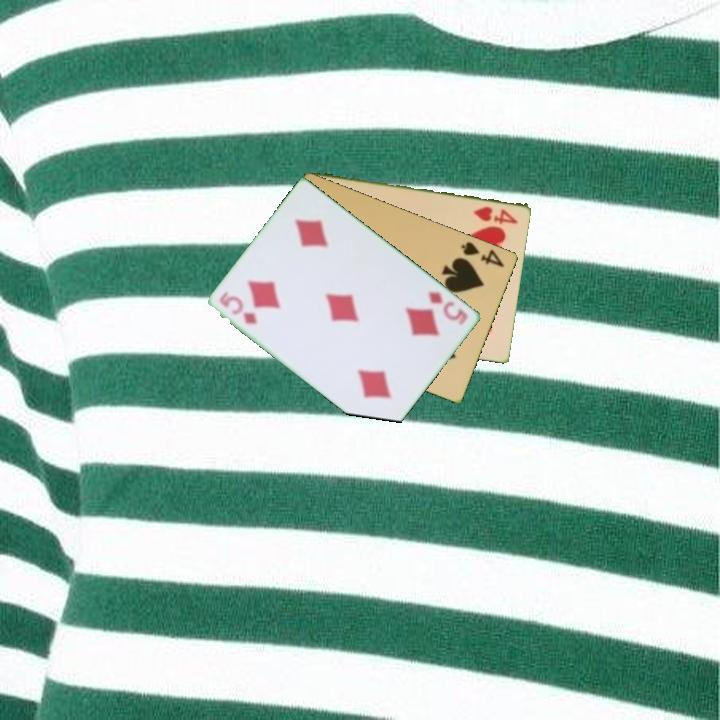4h: (470, 203, 521, 226)
4s: (458, 238, 507, 270)
5d: (425, 287, 471, 328), (221, 292, 261, 327)
